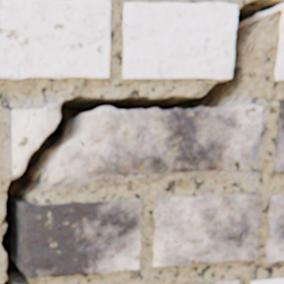brick: (18, 199, 141, 278), (0, 0, 109, 80), (122, 4, 236, 80), (152, 193, 260, 266), (262, 4, 283, 81), (262, 195, 283, 263), (272, 100, 283, 173), (250, 278, 283, 283), (197, 280, 238, 283)
broken_brick: (42, 105, 261, 182), (11, 104, 60, 175)
crack: (1, 0, 283, 283)
